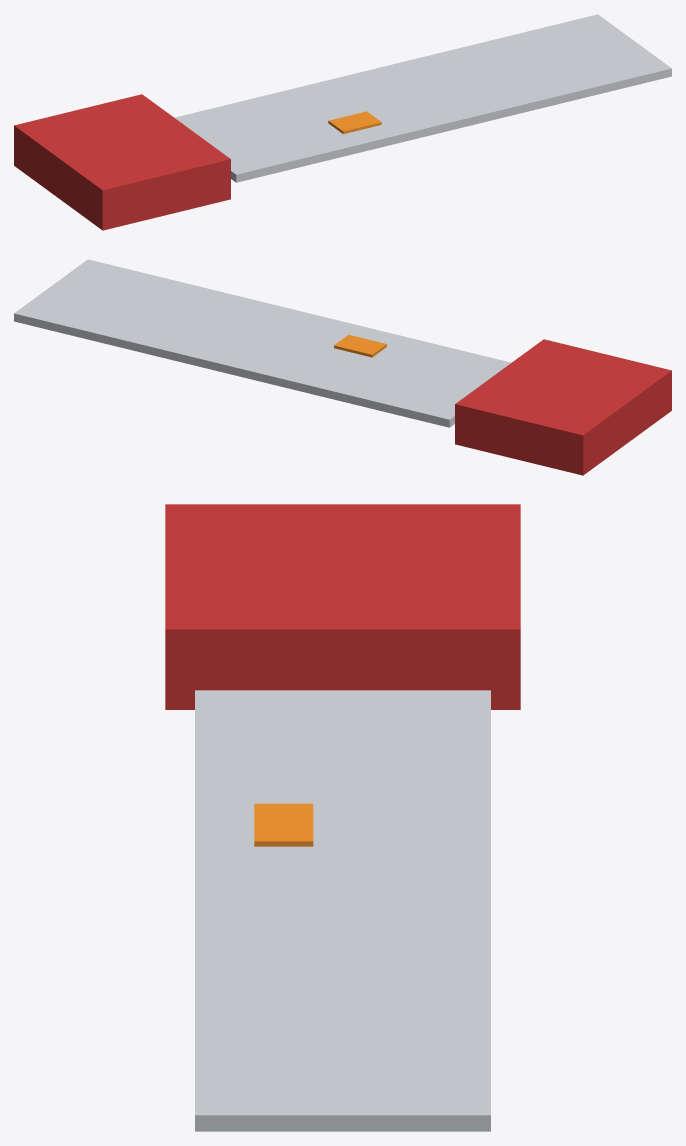
The model's file is tool_saw.glb.
The picture shows the model from 3 angles, top to bottom: view 1: azimuth 30°, elevation 25°; view 2: azimuth 150°, elevation 25°; view 3: azimuth 270°, elevation 25°; orthographic projection. The views are drawn at different scales.
Visible parts, largest first — view 1: blade_saw_blade, handle_saw_handle, tag_price_tag; view 2: blade_saw_blade, handle_saw_handle, tag_price_tag; view 3: blade_saw_blade, handle_saw_handle, tag_price_tag.
Part boxes in pixels (x1=…): blade_saw_blade: x1=174, y1=14, x2=671, y2=182; handle_saw_handle: x1=14, y1=94, x2=230, y2=230; tag_price_tag: x1=328, y1=111, x2=381, y2=134; blade_saw_blade: x1=14, y1=259, x2=511, y2=427; handle_saw_handle: x1=455, y1=339, x2=671, y2=475; tag_price_tag: x1=334, y1=334, x2=386, y2=357; blade_saw_blade: x1=195, y1=690, x2=490, y2=1131; handle_saw_handle: x1=165, y1=504, x2=520, y2=709; tag_price_tag: x1=254, y1=803, x2=313, y2=846.
Size of the model in its own units: 0.45 by 0.03 by 0.12.
